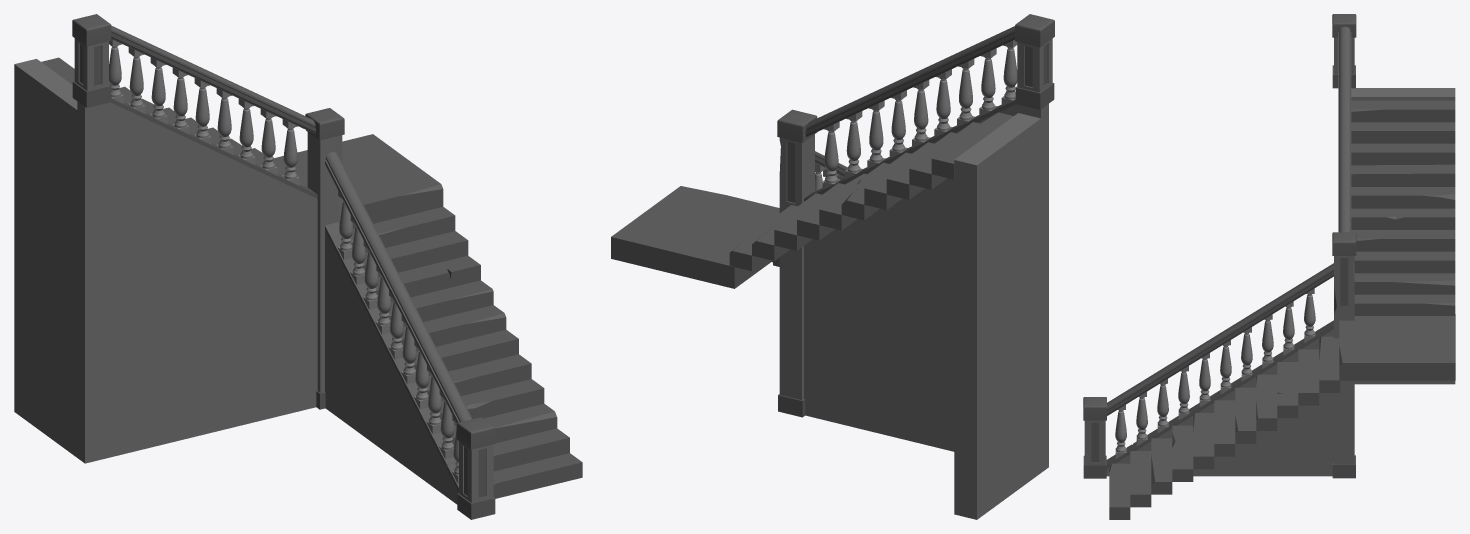
File: CastleStairs_03.glb
3 renders of one model, left to right at view 1: azimuth 30°, elevation 25°; view 2: azimuth 150°, elevation 25°; view 3: azimuth 270°, elevation 25°, orthographic. The views are drawn at different scales.
Parts seen in each view (by area): view 1: CastleStairs_03_LOD0; view 2: CastleStairs_03_LOD0; view 3: CastleStairs_03_LOD0.
Part boxes in pixels (bbox=[...]): CastleStairs_03_LOD0: bbox=[14, 14, 582, 519]; CastleStairs_03_LOD0: bbox=[611, 14, 1054, 519]; CastleStairs_03_LOD0: bbox=[1083, 14, 1455, 519].
Size of what is drawn, in the model's own units: 5.27 by 6.1 by 5.69.
1 material, 1 textured.
